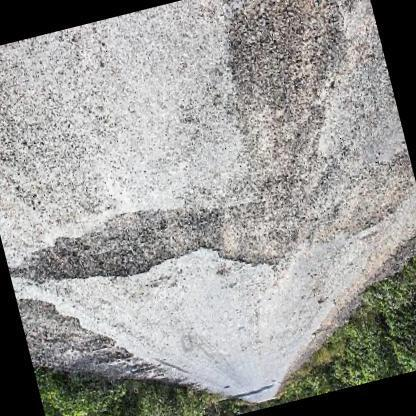pothole: (193, 152, 415, 268), (226, 3, 350, 160), (25, 199, 212, 288), (19, 293, 114, 369)
